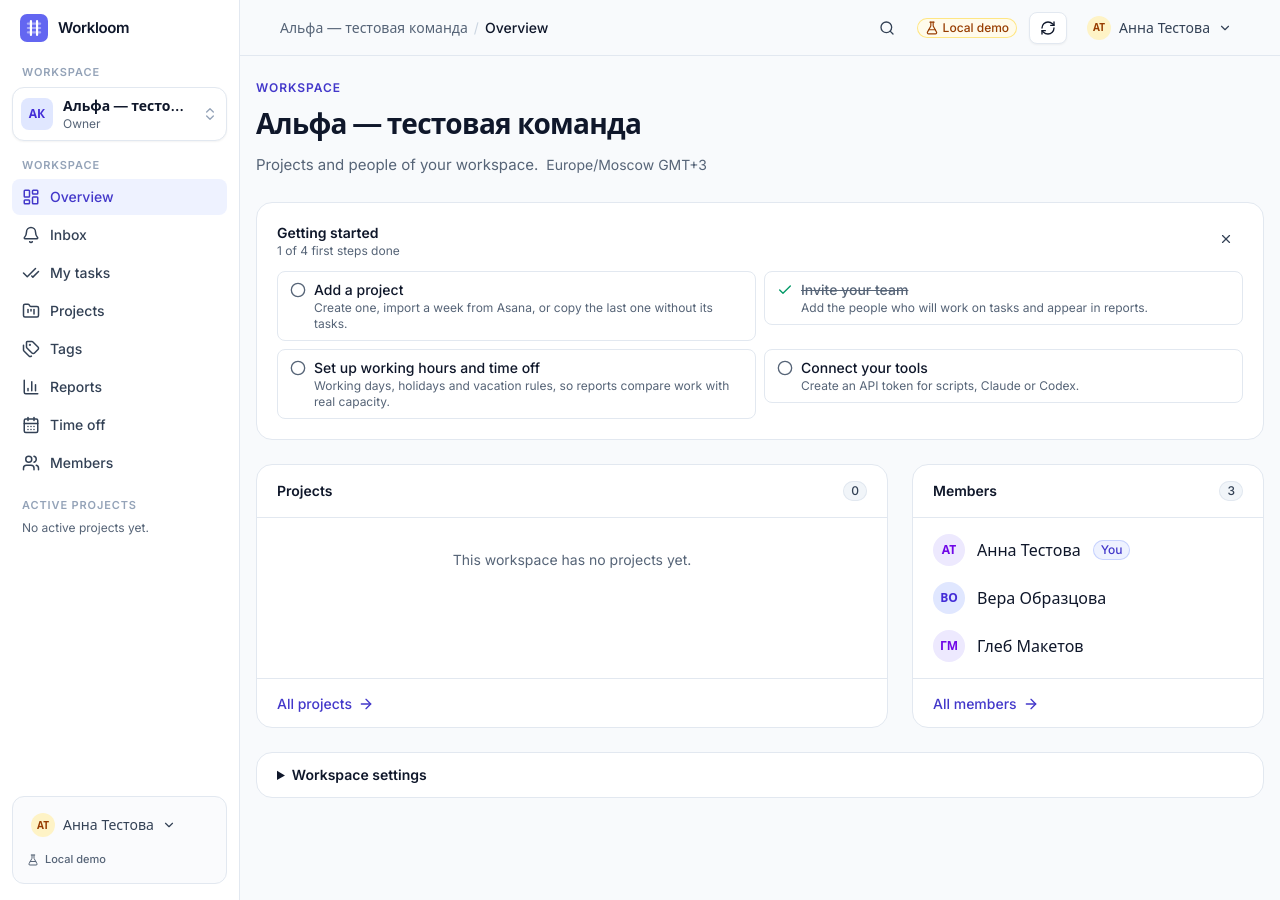
Scenario: quick jump › says so when nothing matches
Click the button named "Search and jump": (887, 28) [869,12,905,44]
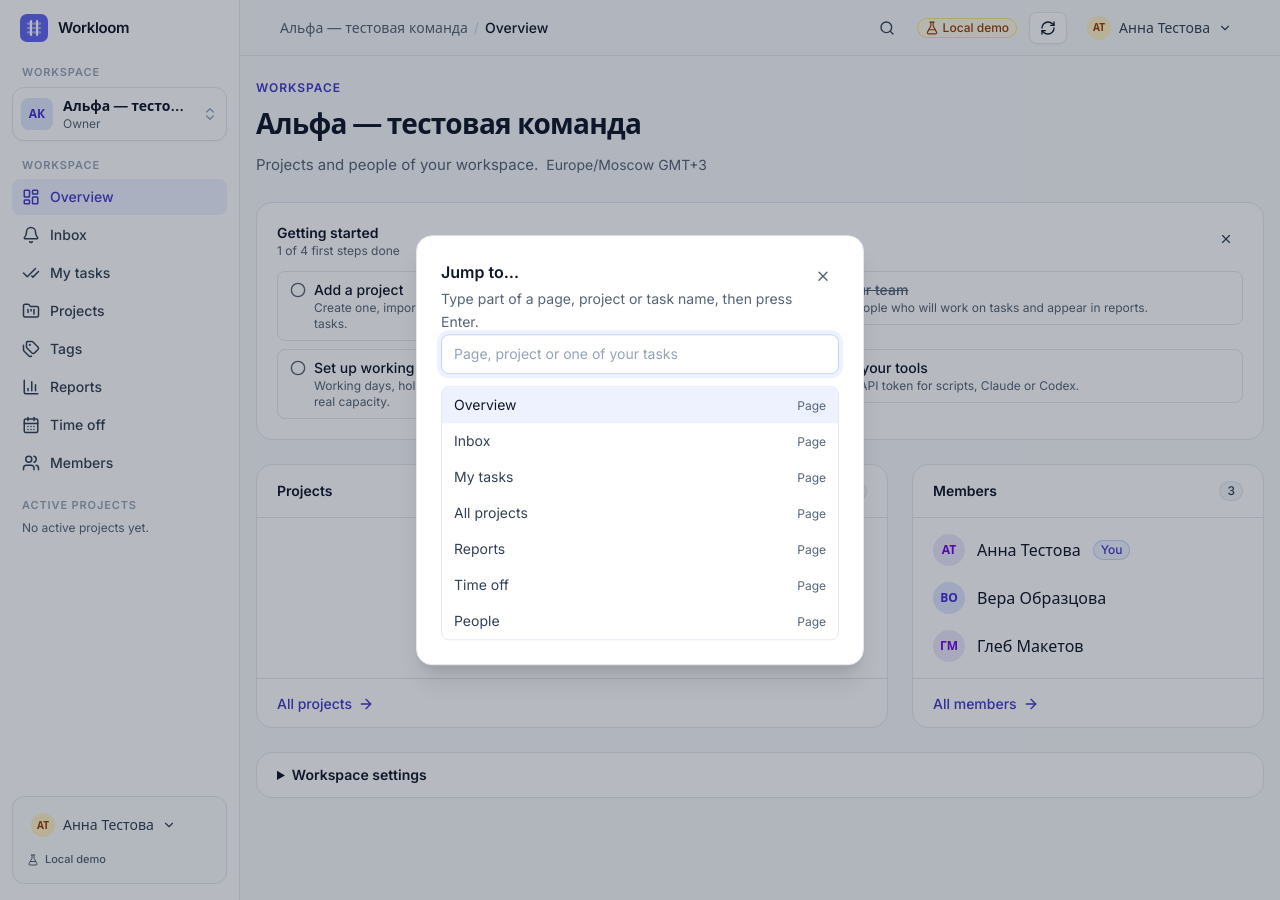
In the dropdown named "Search": (640, 354) [441,334,839,374], type "zzzzzz"
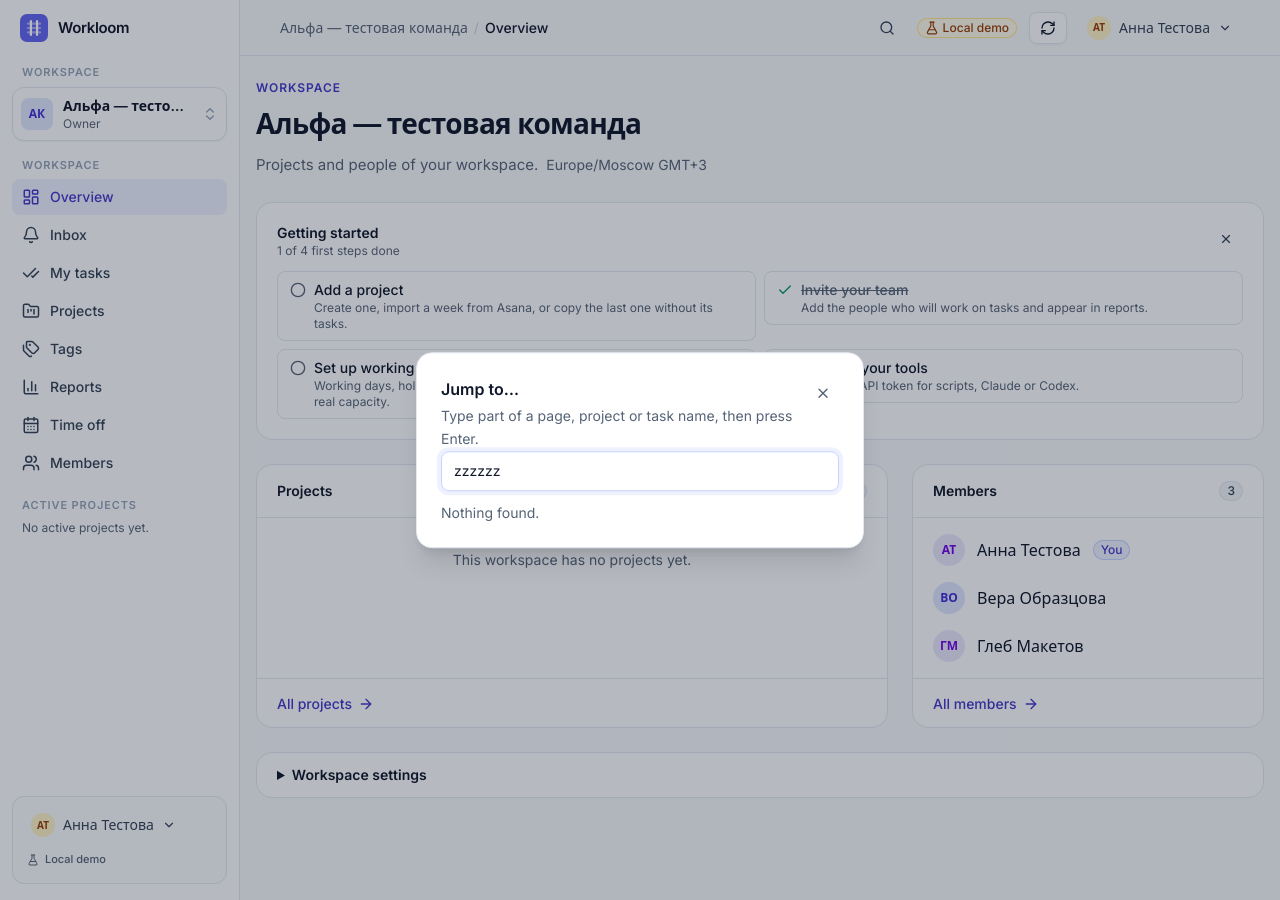
Check: the text "Nothing found." is shown, box [441,504,539,521]
